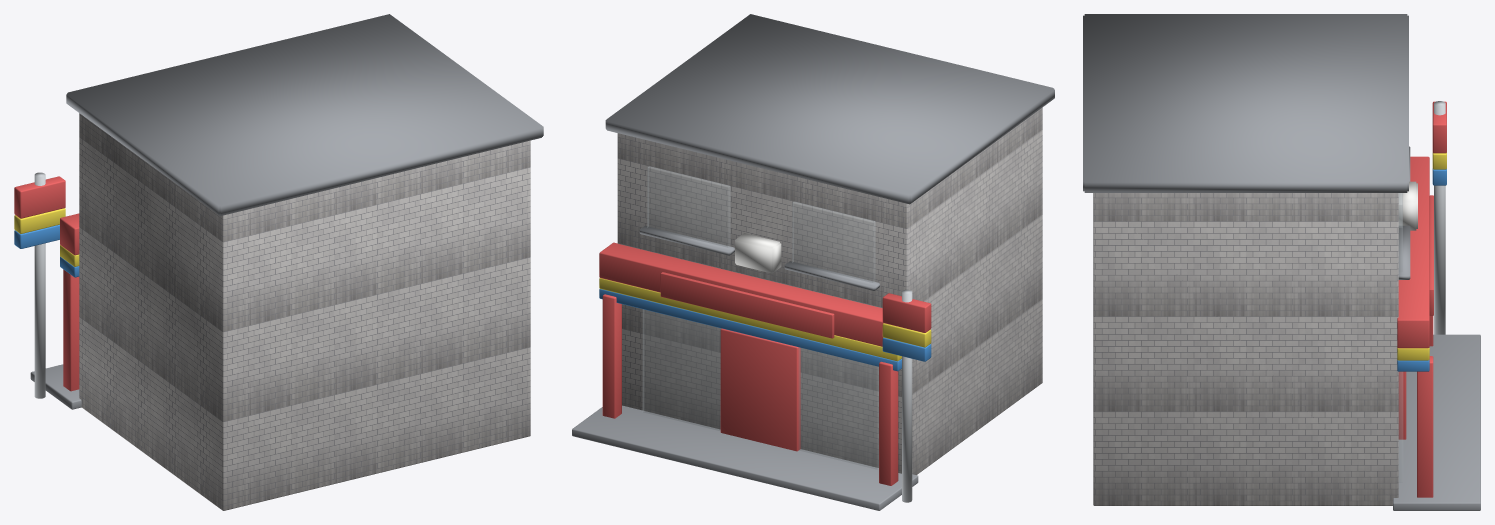
The model's file is ruko_alfamart.glb.
3 renders of one model, left to right at view 1: azimuth 30°, elevation 25°; view 2: azimuth 150°, elevation 25°; view 3: azimuth 270°, elevation 25°, orthographic. The views are drawn at different scales.
Visible parts, largest first — view 1: MainWall.001, WallTrim_RoofLedge.001, TotemPole.001, PillarL.001, TotemRed.001, PorchFloor.001, TotemYel.001, FasciaRed.001, TotemBlue.001; view 2: MainWall.001, WallTrim_RoofLedge.001, StoreFrontGlass.001, PorchFloor.001, DoorFrame.001, FasciaRed.001, UpperWinL.001, UpperWinR.001, SignPlaque.001, FasciaBlue.001, FasciaYellow.001, PillarR.001 (+8 smaller); view 3: MainWall.001, WallTrim_RoofLedge.001, PorchFloor.001, FasciaRed.001, PillarR.001, TotemPole.001, AC_Unit.001, WallTrim_WinSillR.001, TotemRed.001, DoorFrame.001, SignPlaque.001.
Part boxes in pixels (x1=…): MainWall.001: x1=79, y1=113, x2=530, y2=510; WallTrim_RoofLedge.001: x1=66, y1=14, x2=543, y2=216; TotemPole.001: x1=34, y1=172, x2=45, y2=398; PillarL.001: x1=63, y1=269, x2=79, y2=391; TotemRed.001: x1=14, y1=176, x2=65, y2=218; PorchFloor.001: x1=30, y1=364, x2=81, y2=409; TotemYel.001: x1=14, y1=208, x2=65, y2=233; FasciaRed.001: x1=60, y1=213, x2=79, y2=255; TotemBlue.001: x1=14, y1=224, x2=59, y2=248; MainWall.001: x1=617, y1=107, x2=1042, y2=474; WallTrim_RoofLedge.001: x1=605, y1=14, x2=1054, y2=204; StoreFrontGlass.001: x1=642, y1=309, x2=878, y2=469; PorchFloor.001: x1=572, y1=405, x2=918, y2=510; DoorFrame.001: x1=720, y1=328, x2=800, y2=451; FasciaRed.001: x1=599, y1=242, x2=883, y2=346; UpperWinL.001: x1=792, y1=202, x2=875, y2=282; UpperWinR.001: x1=647, y1=166, x2=730, y2=247; SignPlaque.001: x1=660, y1=272, x2=834, y2=338; FasciaBlue.001: x1=599, y1=289, x2=901, y2=371; FasciaYellow.001: x1=599, y1=278, x2=901, y2=361; PillarR.001: x1=602, y1=294, x2=621, y2=418; MainWall.001: x1=1093, y1=193, x2=1398, y2=505; WallTrim_RoofLedge.001: x1=1083, y1=14, x2=1408, y2=192; PorchFloor.001: x1=1393, y1=334, x2=1480, y2=510; FasciaRed.001: x1=1397, y1=156, x2=1429, y2=348; PillarR.001: x1=1417, y1=356, x2=1433, y2=497; TotemPole.001: x1=1434, y1=101, x2=1445, y2=334; AC_Unit.001: x1=1398, y1=181, x2=1417, y2=230; WallTrim_WinSillR.001: x1=1398, y1=225, x2=1410, y2=279; TotemRed.001: x1=1432, y1=101, x2=1446, y2=153; DoorFrame.001: x1=1398, y1=371, x2=1406, y2=439; SignPlaque.001: x1=1429, y1=195, x2=1433, y2=315.
Size of the model in its own units: 7.47 by 6.2 by 6.78.
9 materials, 1 textured.
